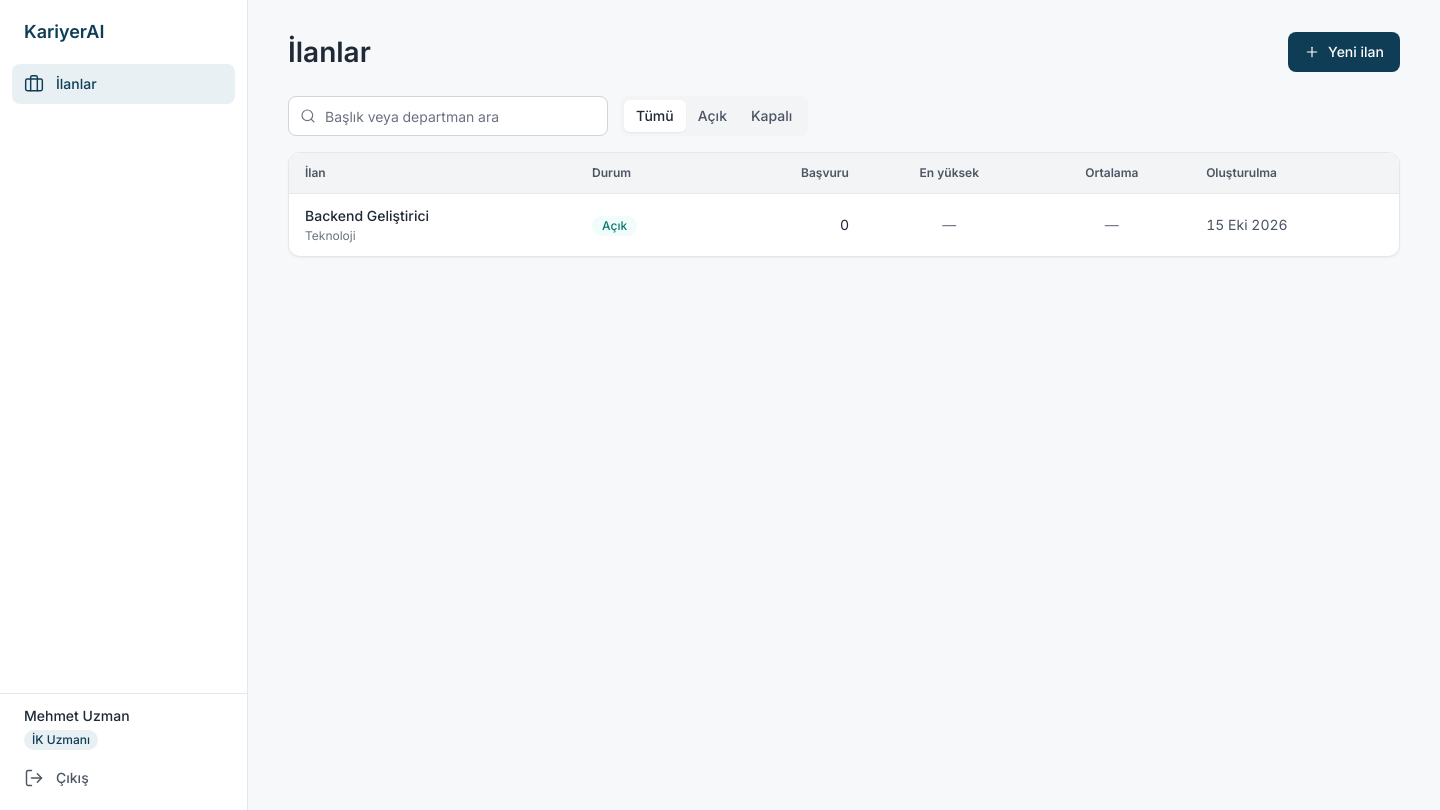
JobsPage › eşleşme yoksa ayrı boş durum gösterir
Expected: the link "Backend Geliştirici" is shown, x1=305 y1=207 x2=429 y2=224
Step 1. Type "pazarlama" into the search field named "İlan ara" → [448, 116], box x1=288 y1=96 x2=608 y2=136
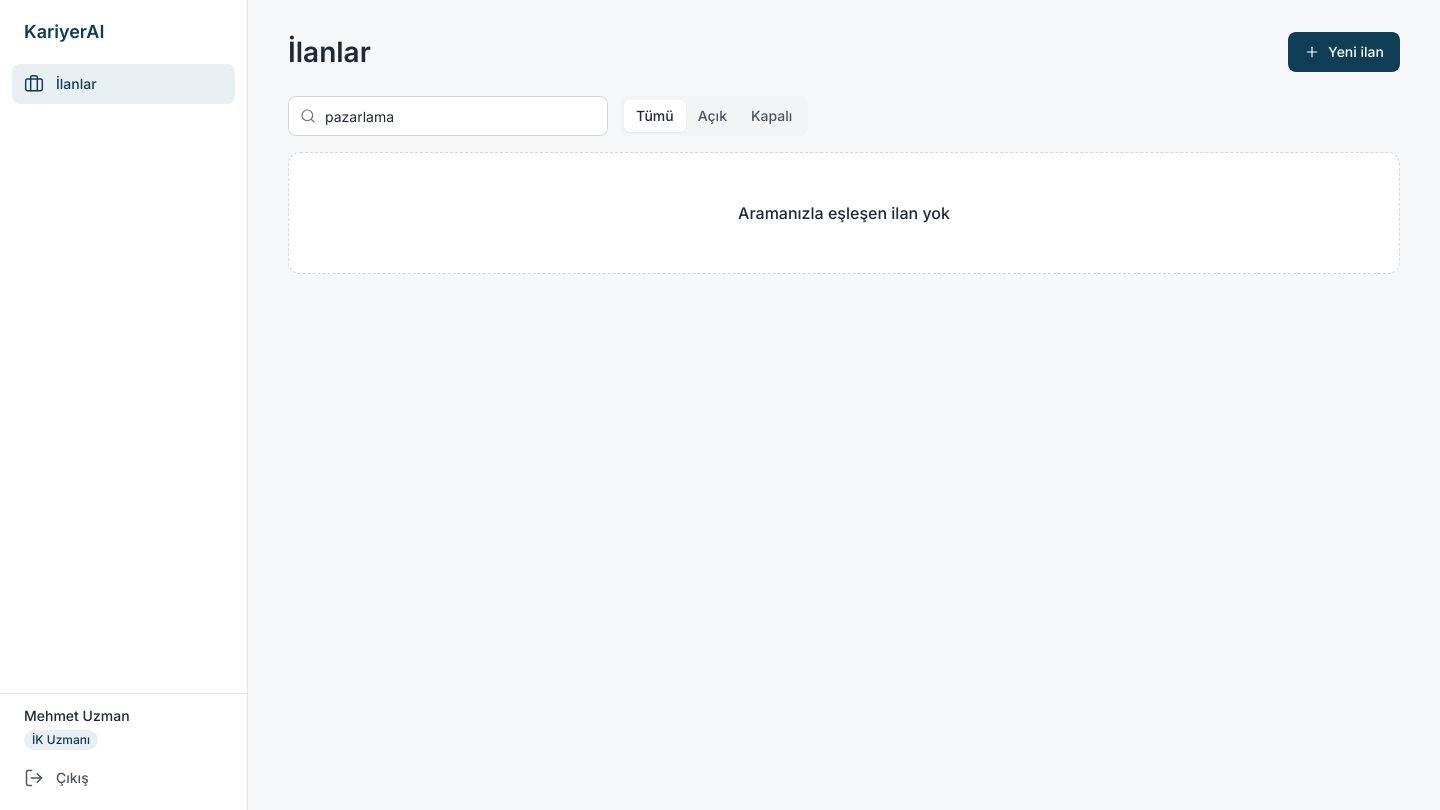
Now the text "Aramanızla eşleşen ilan yok" is shown, box x1=738 y1=201 x2=950 y2=225
